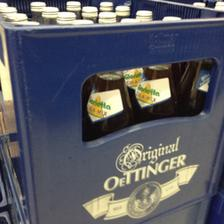Soda: (84, 66, 132, 138), (132, 64, 176, 119)
